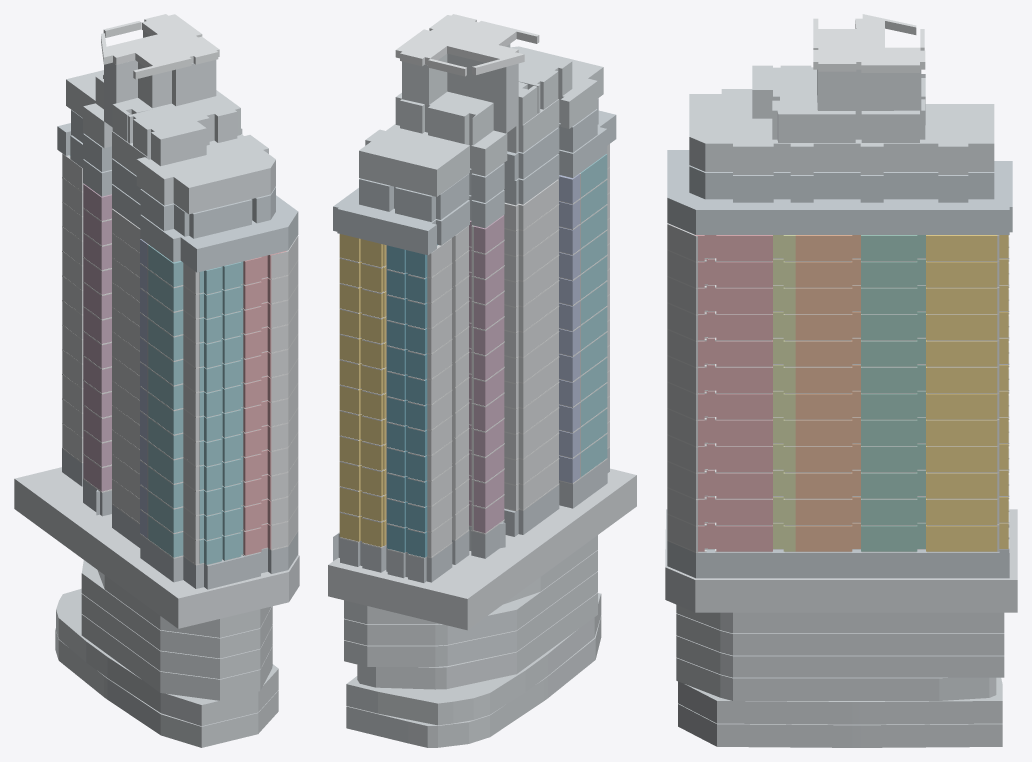
The model's file is building.fbx.
The picture shows the model from 3 angles, left to right: view 1: azimuth 30°, elevation 25°; view 2: azimuth 150°, elevation 25°; view 3: azimuth 270°, elevation 25°; orthographic projection. The views are drawn at different scales.
Parts seen in each view (by area): view 1: GROUND_ENVELOPE_APPROX, ROOF_BASE_APPROX, UPPER_Z48.55_7_DOORS_APPROX, ROOF_MID_APPROX, BASEMENT_2_APPROX, LOWER_Z04.35_8_DOORS_APPROX, UPPER_Z51.95_7_DOORS_APPROX, BASEMENT_1_APPROX, ROOF_CAP_APPROX_1, BASEMENT_5_APPROX, BASEMENT_3_APPROX, BASEMENT_4_APPROX (+74 smaller); view 2: GROUND_ENVELOPE_APPROX, ROOF_BASE_APPROX, UPPER_Z48.55_7_DOORS_APPROX, BASEMENT_2_APPROX, ROOF_MID_APPROX, LOWER_Z04.35_8_DOORS_APPROX, UPPER_Z51.95_7_DOORS_APPROX, BASEMENT_1_APPROX, BASEMENT_5_APPROX, BASEMENT_4_APPROX, BASEMENT_3_APPROX, ROOF_CAP_APPROX_1 (+86 smaller); view 3: ROOF_BASE_APPROX, UPPER_Z48.55_7_DOORS_APPROX, GROUND_ENVELOPE_APPROX, LOWER_Z04.35_8_DOORS_APPROX, UPPER_Z51.95_7_DOORS_APPROX, ROOF_MID_APPROX, BASEMENT_2_APPROX, BASEMENT_1_APPROX, BASEMENT_3_APPROX, BASEMENT_5_APPROX, BASEMENT_4_APPROX, BASEMENT_6_APPROX (+81 smaller).
Boxes of the visible parts, x1,y1,x2,y2 form: GROUND_ENVELOPE_APPROX: [14, 467, 299, 628]; ROOF_BASE_APPROX: [66, 70, 275, 214]; UPPER_Z48.55_7_DOORS_APPROX: [57, 123, 298, 272]; ROOF_MID_APPROX: [95, 74, 240, 166]; BASEMENT_2_APPROX: [56, 588, 278, 726]; LOWER_Z04.35_8_DOORS_APPROX: [62, 449, 298, 589]; UPPER_Z51.95_7_DOORS_APPROX: [71, 109, 275, 238]; BASEMENT_1_APPROX: [55, 628, 278, 747]; ROOF_CAP_APPROX_1: [101, 14, 219, 79]; BASEMENT_5_APPROX: [81, 560, 272, 658]; BASEMENT_3_APPROX: [81, 614, 272, 700]; BASEMENT_4_APPROX: [81, 593, 272, 678]; GROUND_ENVELOPE_APPROX: [328, 468, 636, 630]; ROOF_BASE_APPROX: [359, 46, 603, 196]; UPPER_Z48.55_7_DOORS_APPROX: [333, 110, 616, 255]; BASEMENT_2_APPROX: [346, 593, 601, 725]; ROOF_MID_APPROX: [395, 49, 572, 145]; LOWER_Z04.35_8_DOORS_APPROX: [333, 447, 609, 582]; UPPER_Z51.95_7_DOORS_APPROX: [359, 98, 598, 221]; BASEMENT_1_APPROX: [346, 616, 601, 747]; BASEMENT_5_APPROX: [344, 550, 597, 645]; BASEMENT_4_APPROX: [344, 571, 597, 666]; BASEMENT_3_APPROX: [357, 593, 597, 689]; ROOF_CAP_APPROX_1: [395, 14, 539, 75]; ROOF_BASE_APPROX: [689, 89, 994, 174]; UPPER_Z48.55_7_DOORS_APPROX: [667, 150, 1012, 234]; GROUND_ENVELOPE_APPROX: [665, 509, 1017, 612]; LOWER_Z04.35_8_DOORS_APPROX: [667, 526, 1009, 578]; UPPER_Z51.95_7_DOORS_APPROX: [689, 165, 994, 202]; ROOF_MID_APPROX: [752, 65, 925, 142]; BASEMENT_2_APPROX: [678, 677, 1002, 724]; BASEMENT_1_APPROX: [678, 703, 1002, 747]; BASEMENT_3_APPROX: [676, 657, 996, 700]; BASEMENT_5_APPROX: [676, 613, 1004, 655]; BASEMENT_4_APPROX: [676, 635, 1004, 677]; BASEMENT_6_APPROX: [676, 604, 1004, 633].
Bounding box in the file's own units: 19.52 × 41.15 × 87.15.
